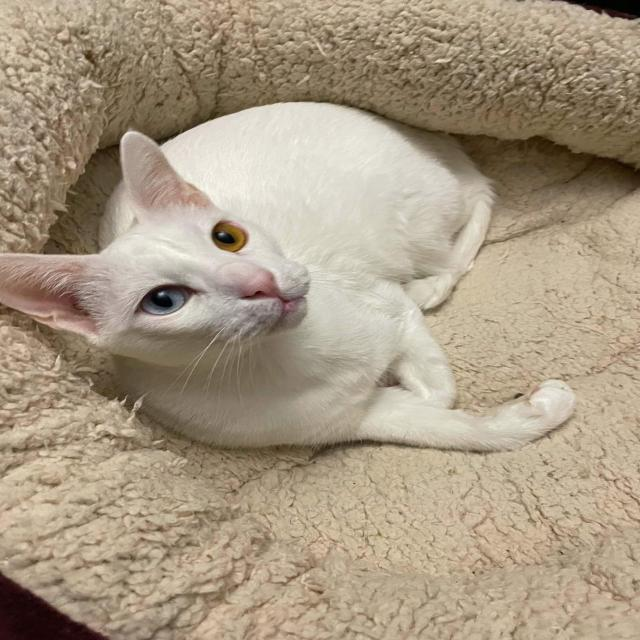Khao Manee: (0, 96, 578, 458)
